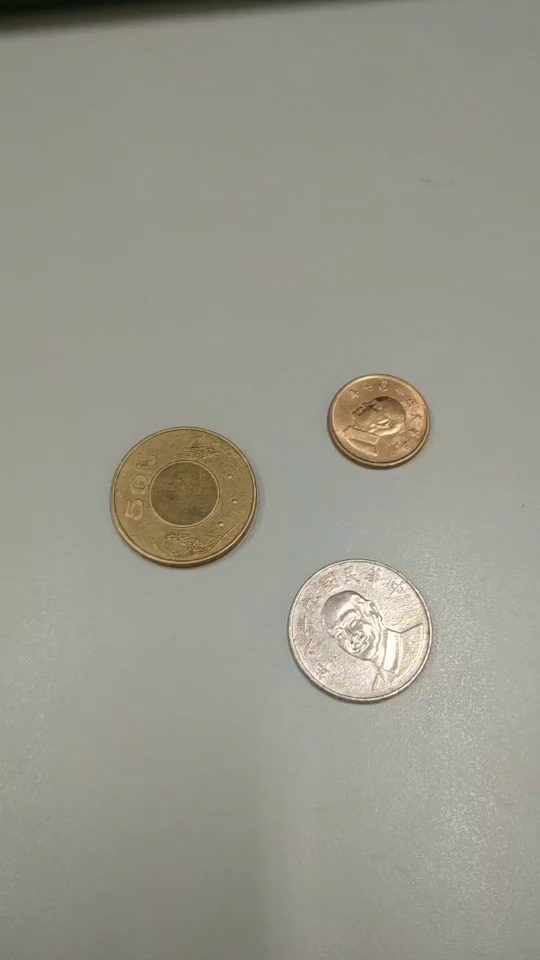NT$ 1: (329, 374, 430, 471)
NT$ 10: (286, 559, 434, 705)
NT$ 50: (110, 425, 258, 569)
